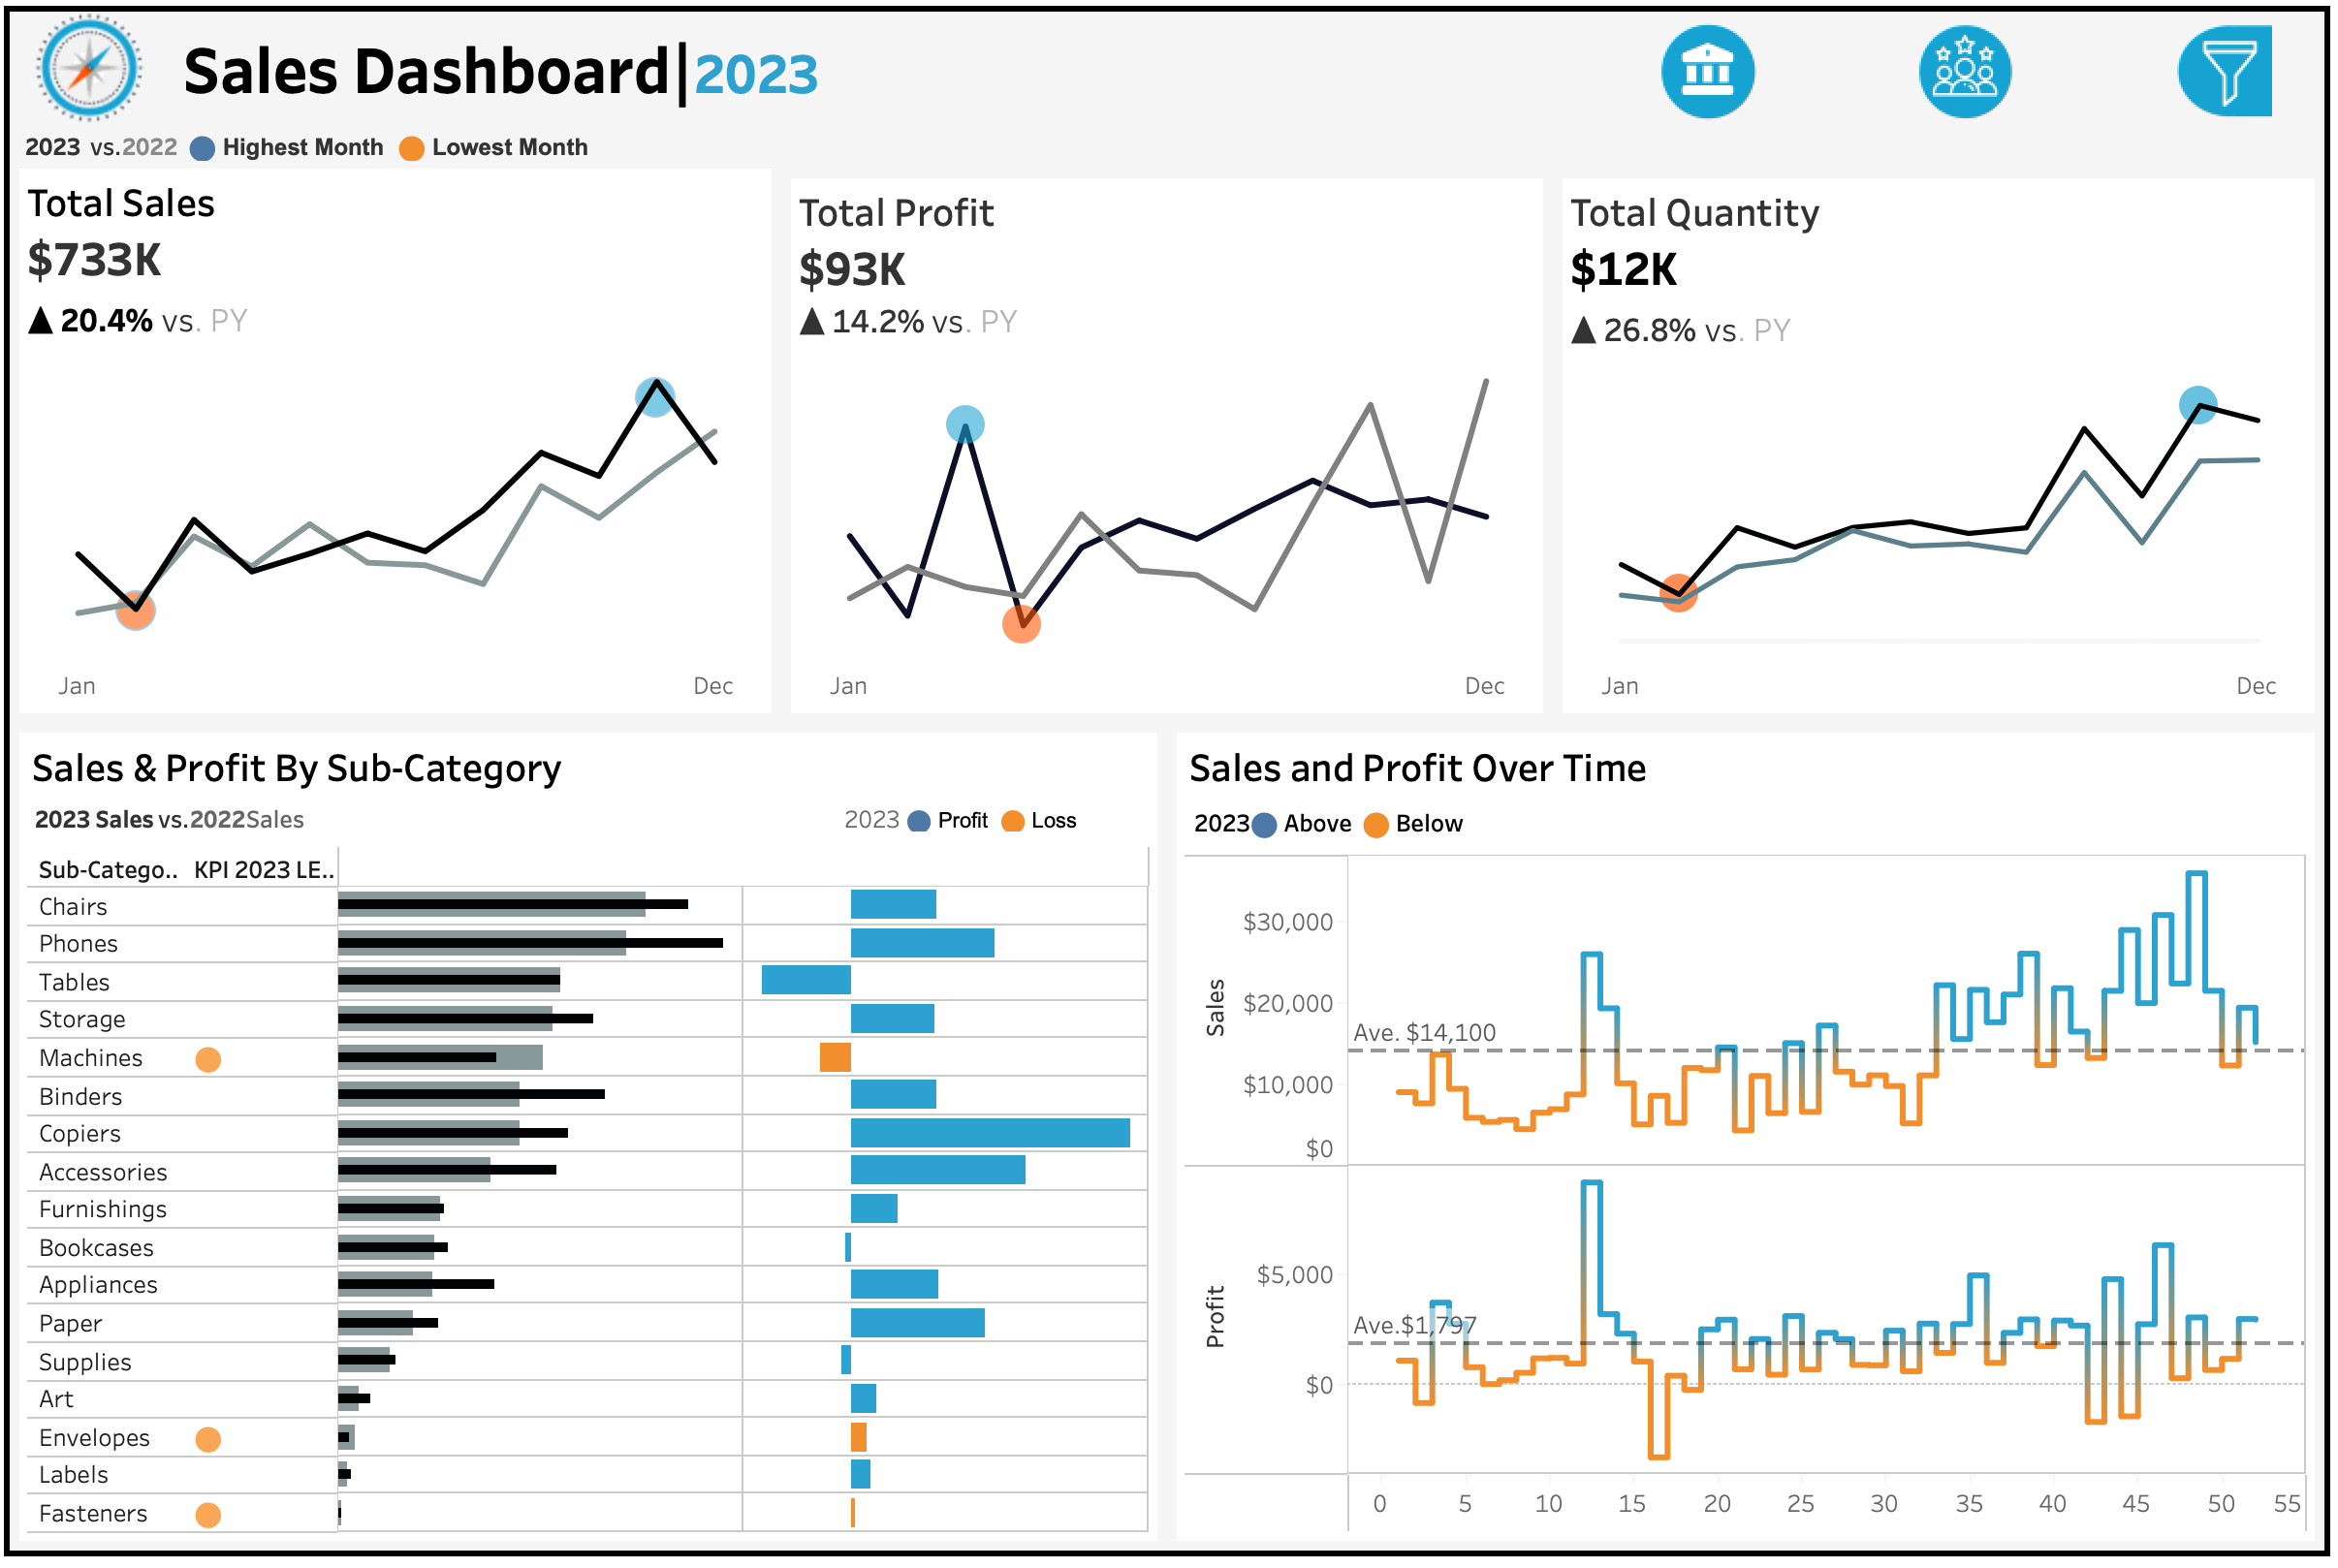

What the dashboard file says about the page in this screenshot:
{"tool":"tableau","page":{"name":"Sales Dashboard","canvas":[1200,800],"ordinal":1},"visuals":[{"type":"image","param":"Image/Icon - Logo.png","box":[3,3,86,58]},{"type":"text","box":[89,3,1108,58]},{"type":"dashboard-object","box":[812,5,134,58]},{"type":"dashboard-object","box":[946,5,133,58]},{"type":"worksheet","title":"Legend KPI ","mark":"Automatic","box":[3,61,1194,23]},{"type":"worksheet","title":"KPI Sales","mark":"Automatic","rows":["Calculation_0900234098601989"],"cols":["Order Date"],"box":[3,84,398,286]},{"type":"worksheet","title":"KPI Profit","mark":"Line","rows":["Calculation_0900234163757070"],"cols":["Order Date"],"box":[401,84,398,286]},{"type":"worksheet","title":"KPI Quanity","mark":"Automatic","rows":["Calculation_0900234434461727"],"cols":["Order Date"],"box":[799,84,398,286]},{"type":"text","box":[976,98,210,34]},{"type":"parameter","param":"[Parameters].[Parameter 1]","box":[976,132,210,52]},{"type":"blank","box":[976,184,210,68]},{"type":"text","box":[976,252,210,30]},{"type":"filter","title":"KPI Sales","param":"[federated.1gy05rg1pslwb71a44vzs05q2c62].[none:Category:nk]","box":[976,282,210,52]},{"type":"filter","title":"KPI Sales","param":"[federated.1gy05rg1pslwb71a44vzs05q2c62].[none:Sub-Category:nk]","box":[976,334,210,52]},{"type":"text","box":[8,375,587,34]},{"type":"text","box":[605,375,587,34]},{"type":"blank","box":[976,386,210,68]},{"type":"worksheet","title":"Legend Sub-Category","mark":"Automatic","box":[8,409,419,21]},{"type":"text","box":[427,409,168,21]},{"type":"text","box":[605,409,587,25]},{"type":"worksheet","title":"Sub-Category Compare","mark":"Bar","rows":["Sub-Category","Calculation_0900234194886672"],"cols":["2023 Sales (copy)_0900234089865218","Calculation_0900234089091073","Calculation_0900234144632841"],"box":[8,430,587,362]},{"type":"worksheet","title":"Weekly Trends","mark":"Automatic","rows":["Calculation_0900234089091073","Calculation_0900234144632841"],"cols":["Order Date"],"box":[605,434,587,358]},{"type":"text","box":[976,454,210,30]},{"type":"filter","title":"KPI Sales","param":"[federated.1gy05rg1pslwb71a44vzs05q2c62].[none:Region:nk]","box":[976,484,210,52]},{"type":"filter","title":"KPI Sales","param":"[federated.1gy05rg1pslwb71a44vzs05q2c62].[none:State:nk]","box":[976,536,210,52]},{"type":"filter","title":"KPI Sales","param":"[federated.1gy05rg1pslwb71a44vzs05q2c62].[none:City:nk]","box":[976,588,210,52]}]}

Visuals, with their boxes in screenshot pixels (x1, y1, x2, y2), scaled from the page's 1200x800 canvas onto the 2338x1568 screenshot:
image: crop(6, 6, 174, 119)
text: crop(174, 6, 2332, 119)
dashboard-object: crop(1582, 10, 1843, 123)
dashboard-object: crop(1843, 10, 2102, 123)
"Legend KPI " worksheet: crop(6, 119, 2332, 165)
"KPI Sales" worksheet: crop(6, 165, 781, 725)
"KPI Profit" worksheet (Line marks): crop(781, 165, 1557, 725)
"KPI Quanity" worksheet: crop(1557, 165, 2332, 725)
text: crop(1902, 192, 2311, 259)
parameter: crop(1902, 259, 2311, 361)
blank: crop(1902, 361, 2311, 494)
text: crop(1902, 494, 2311, 552)
"KPI Sales" filter: crop(1902, 552, 2311, 655)
"KPI Sales" filter: crop(1902, 655, 2311, 757)
text: crop(16, 735, 1159, 801)
text: crop(1179, 735, 2322, 801)
blank: crop(1902, 757, 2311, 890)
"Legend Sub-Category" worksheet: crop(16, 801, 832, 843)
text: crop(832, 801, 1159, 843)
text: crop(1179, 801, 2322, 851)
"Sub-Category Compare" worksheet (Bar marks): crop(16, 843, 1159, 1552)
"Weekly Trends" worksheet: crop(1179, 851, 2322, 1552)
text: crop(1902, 890, 2311, 949)
"KPI Sales" filter: crop(1902, 949, 2311, 1051)
"KPI Sales" filter: crop(1902, 1051, 2311, 1152)
"KPI Sales" filter: crop(1902, 1152, 2311, 1254)
